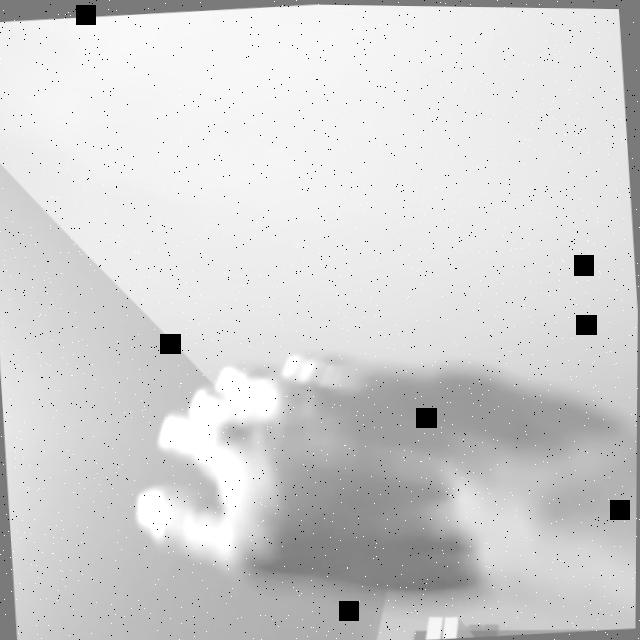Paper: (111, 327, 626, 626)
